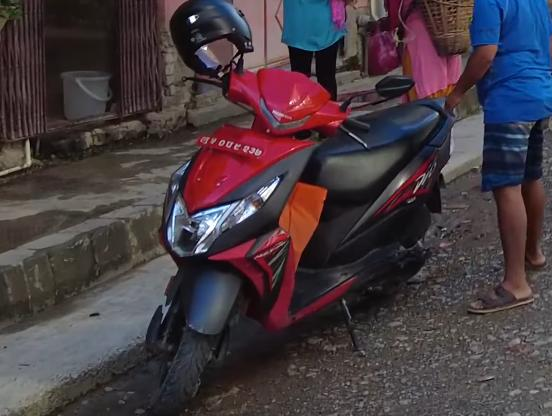scooter: (141, 51, 461, 416)
